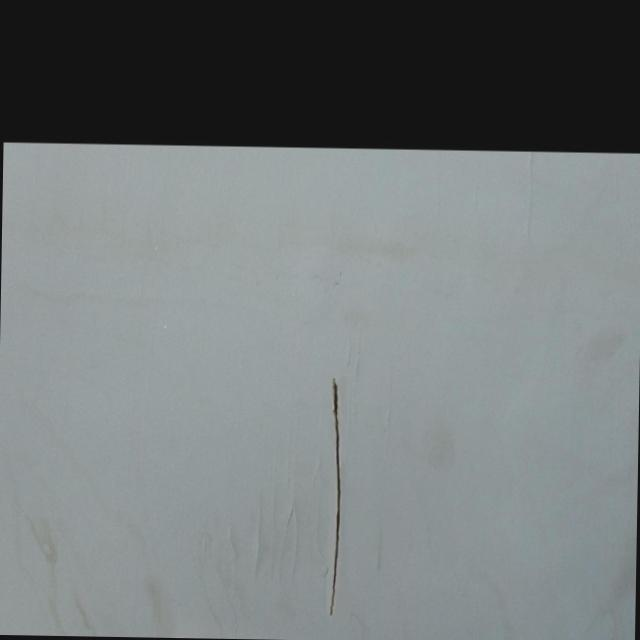crack: (322, 375, 348, 616)
